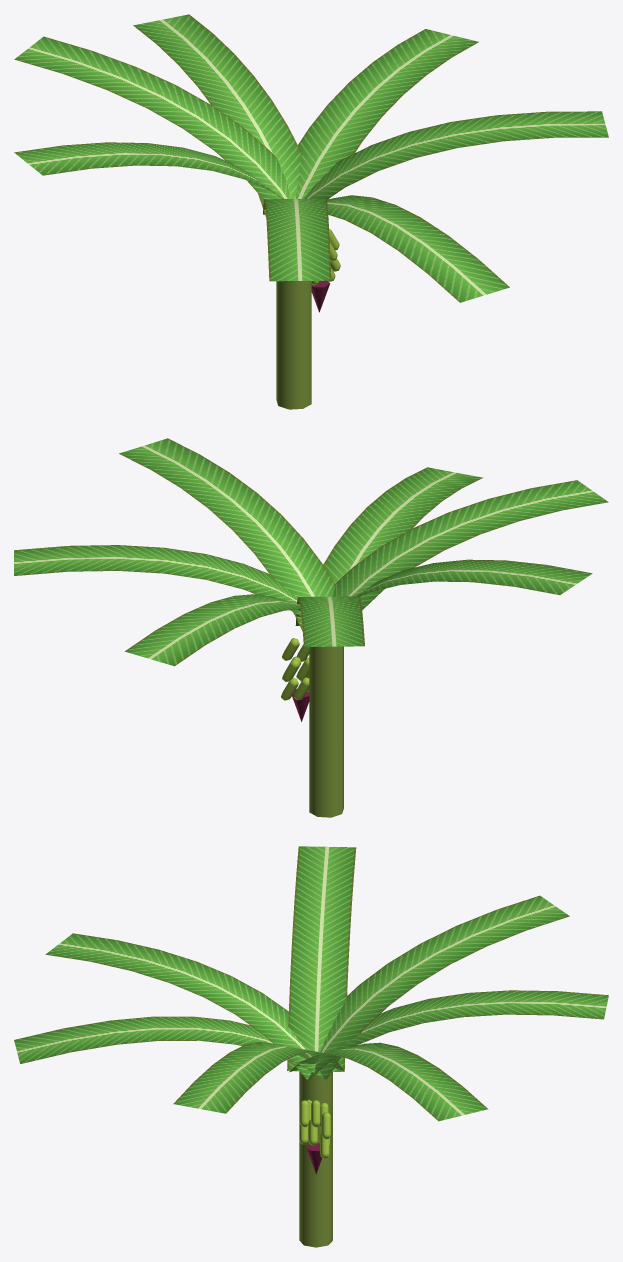
Rendered from chuoi_2.glb.
3 renders of one model, top to bottom at view 1: azimuth 30°, elevation 25°; view 2: azimuth 150°, elevation 25°; view 3: azimuth 270°, elevation 25°, orthographic. The views are drawn at different scales.
Parts seen in each view (by area): view 1: chuoi_2; view 2: chuoi_2; view 3: chuoi_2.
Boxes of the visible parts, bbox=[...] form: chuoi_2: bbox=[14, 14, 608, 409]; chuoi_2: bbox=[14, 438, 608, 817]; chuoi_2: bbox=[14, 846, 608, 1247].
Size of the model in its own units: 1.64 by 0.897 by 1.75.
Materials: 13 (1 with a texture image).
